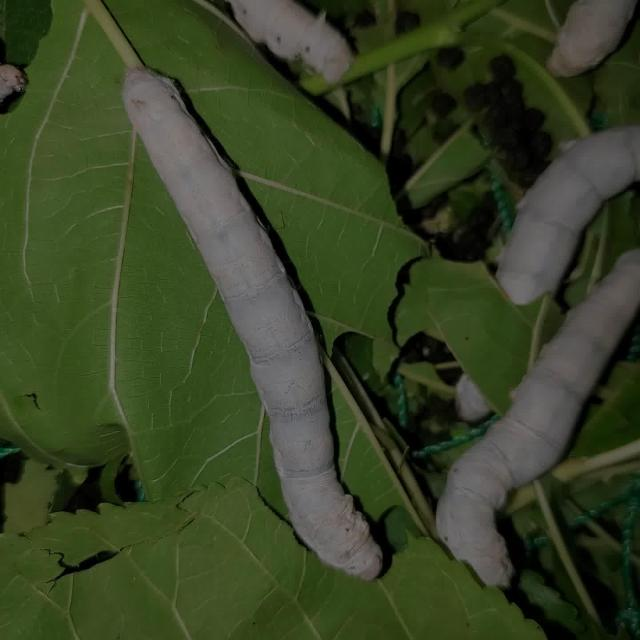Healthy: (115, 62, 388, 586)
